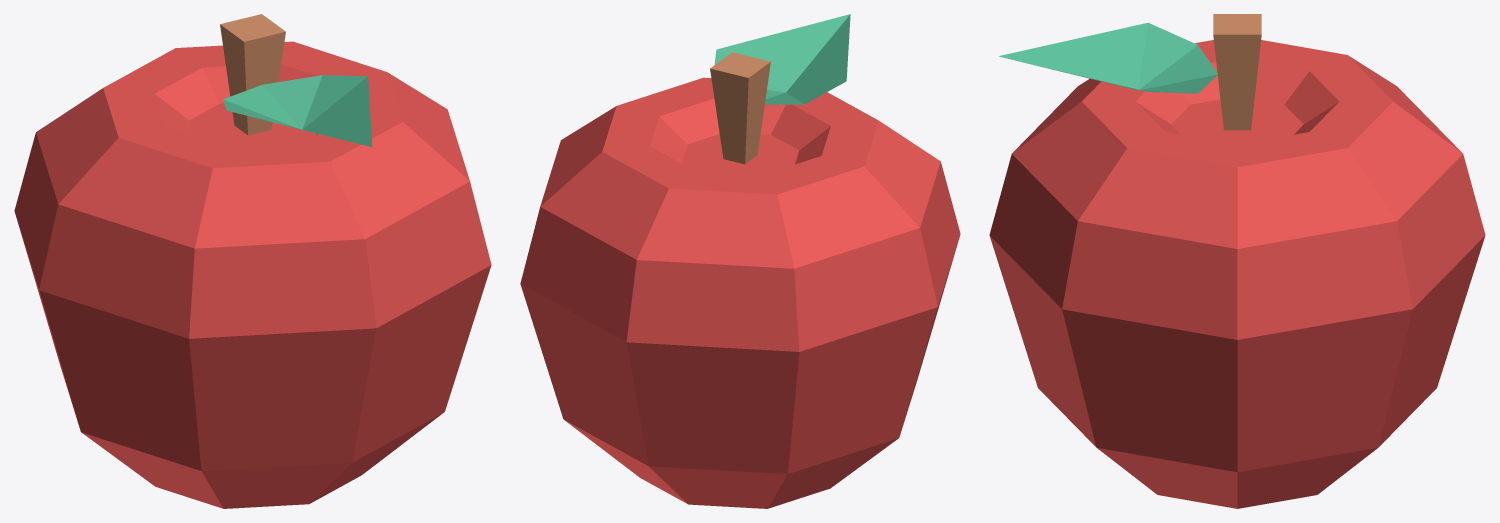
File: apple.obj
3 views of the same model, side by side, from view 1: azimuth 30°, elevation 25°; view 2: azimuth 150°, elevation 25°; view 3: azimuth 270°, elevation 25° (orthographic). The views are drawn at different scales.
Visible parts, largest first — view 1: apple; view 2: apple; view 3: apple.
Boxes of the visible parts, left/top/right/bottom form: apple: left=14, top=14, right=491, bottom=508; apple: left=520, top=14, right=960, bottom=508; apple: left=989, top=14, right=1485, bottom=508.
Size of the model in its own units: 0.1963 by 0.1908 by 0.1963.
